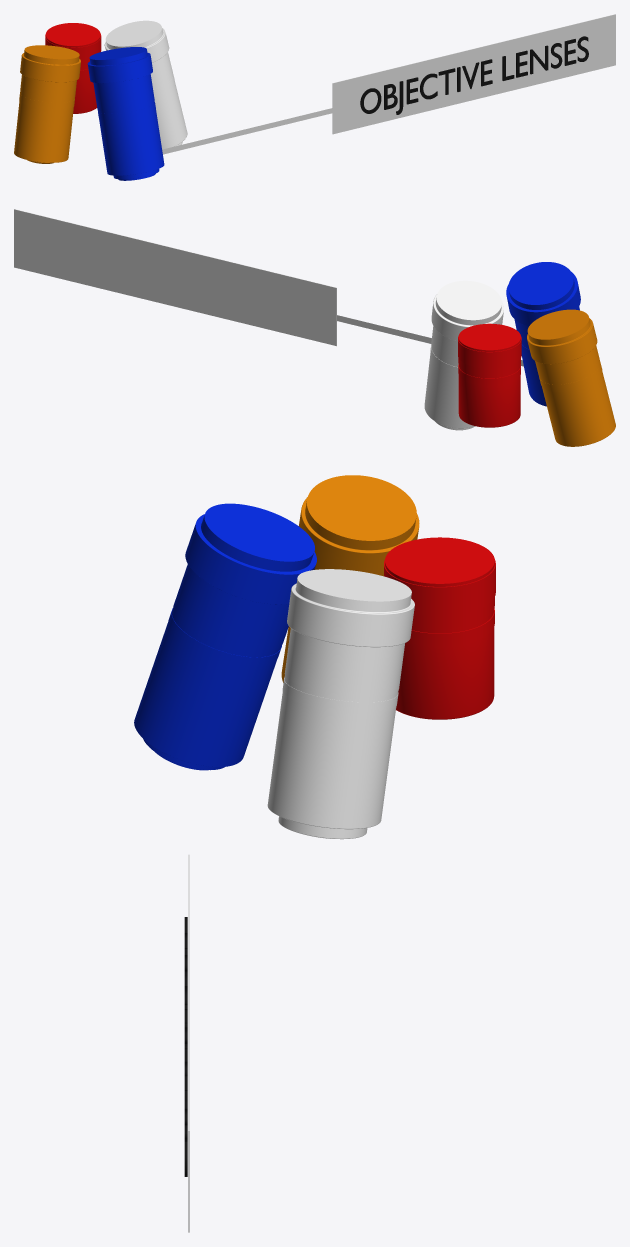
File: updatedobj.gltf
The picture shows the model from 3 angles, top to bottom: view 1: azimuth 30°, elevation 25°; view 2: azimuth 150°, elevation 25°; view 3: azimuth 270°, elevation 25°; orthographic projection. The views are drawn at different scales.
Parts seen in each view (by area): view 1: Cube.016, 40x, 10x, 100x, Text.008, 4x, Cube.017; view 2: Cube.016, 10x, 4x, 100x, 40x, Cube.017; view 3: 100x, 40x, 4x, 10x, Text.008.
Part boxes in pixels (x1,y1,x2,y2): Cube.016: (332,14,615,134); 40x: (87,47,164,180); 10x: (14,45,80,163); 100x: (104,20,187,149); Text.008: (360,36,588,114); 4x: (45,23,101,113); Cube.017: (162,107,334,154); Cube.016: (14,209,336,346); 10x: (527,309,615,446); 4x: (458,323,521,427); 100x: (424,280,503,430); 40x: (506,262,580,406); Cube.017: (337,315,523,366); 100x: (267,569,414,839); 40x: (134,503,316,770); 4x: (384,537,495,719); 10x: (281,475,419,682); Text.008: (184,917,187,1176).
Size of the model in its own units: 0.2236 by 0.0498 by 0.0624.
